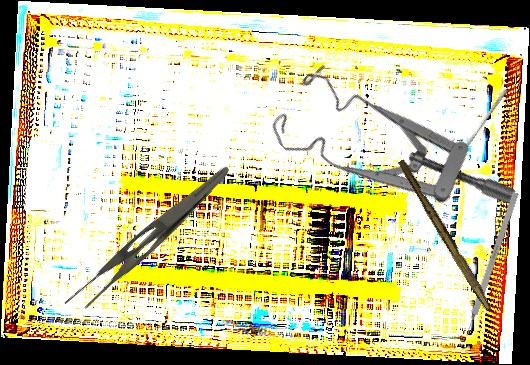Dressing Forceps: (60, 148, 233, 325)
Hook Surgical: (460, 191, 520, 344)
Pusher: (434, 86, 509, 193)
Scalpel Handle: (394, 158, 497, 312)
Speculum: (259, 29, 518, 288)
